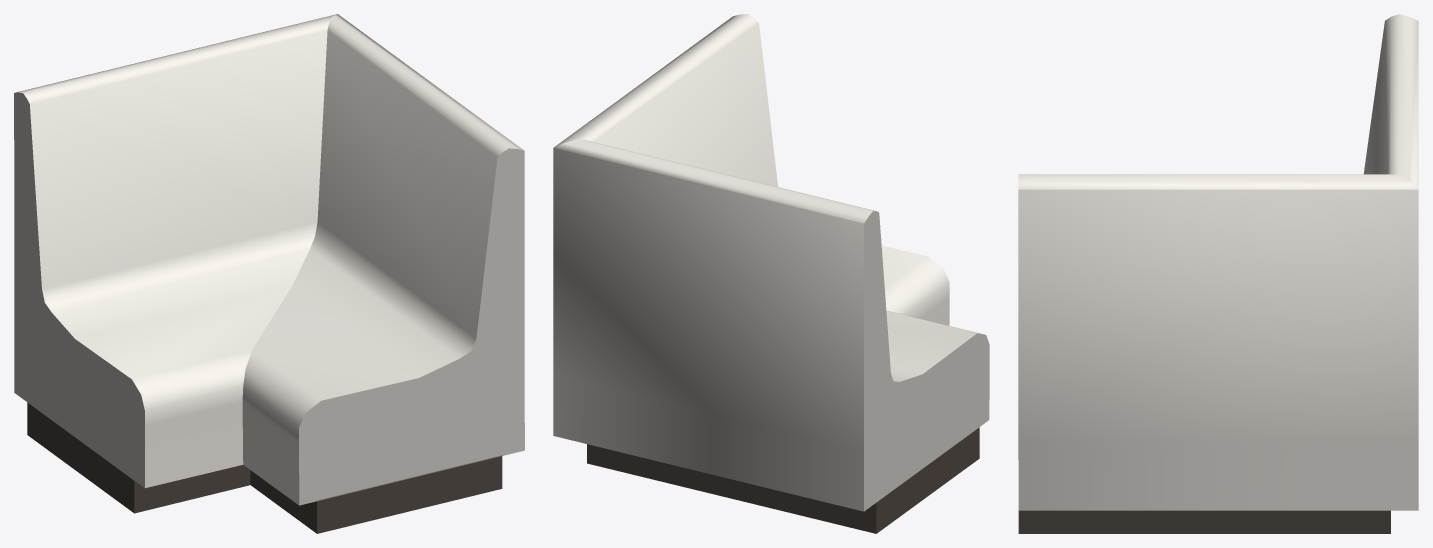
The model's file is chair_corner.fbx.
3 views of the same model, side by side, from view 1: azimuth 30°, elevation 25°; view 2: azimuth 150°, elevation 25°; view 3: azimuth 270°, elevation 25° (orthographic). The views are drawn at different scales.
Parts seen in each view (by area): view 1: mesh_ChairCorner; view 2: mesh_ChairCorner; view 3: mesh_ChairCorner.
Boxes of the visible parts, x1,y1,x2,y2 form: mesh_ChairCorner: [14, 14, 524, 533]; mesh_ChairCorner: [553, 14, 989, 533]; mesh_ChairCorner: [1018, 14, 1418, 533].
Size of the model in its own units: 1 by 1 by 1.
Materials: 1 (1 with a texture image).
